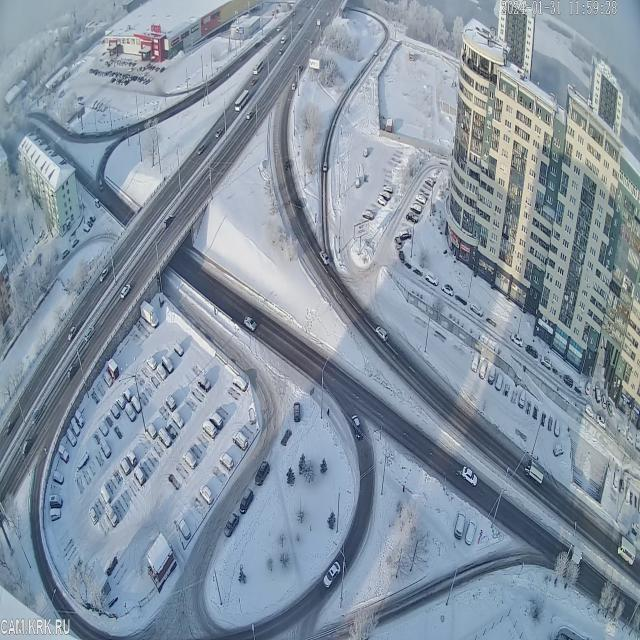car: (617, 536, 636, 566), (140, 300, 159, 328), (323, 561, 341, 589), (526, 458, 544, 486), (254, 460, 270, 486), (224, 512, 239, 537), (462, 466, 478, 488), (240, 488, 253, 515), (351, 415, 364, 441), (232, 431, 248, 452), (200, 482, 214, 506), (465, 518, 477, 546), (158, 426, 172, 449), (455, 508, 465, 540), (105, 503, 118, 527), (177, 518, 191, 540), (219, 451, 234, 471), (107, 358, 120, 381), (209, 409, 223, 430), (183, 449, 197, 470), (203, 419, 217, 439), (198, 372, 211, 393), (470, 299, 483, 319), (233, 374, 247, 392), (100, 438, 112, 459), (375, 324, 388, 343), (425, 269, 438, 288), (172, 409, 184, 429), (146, 420, 158, 440), (66, 363, 79, 381), (470, 349, 480, 372), (134, 467, 146, 486), (404, 210, 418, 226), (510, 331, 523, 348), (58, 444, 69, 464), (127, 448, 138, 468), (131, 394, 142, 414), (162, 356, 174, 374), (479, 355, 488, 379), (526, 342, 538, 360), (442, 280, 454, 298), (66, 429, 77, 448), (100, 485, 111, 504), (125, 403, 136, 422), (244, 316, 257, 332), (70, 417, 80, 437), (88, 505, 98, 525), (166, 394, 177, 412), (398, 227, 412, 241), (50, 494, 63, 509), (74, 409, 84, 428), (120, 457, 130, 476), (22, 438, 32, 457), (163, 212, 174, 229), (540, 353, 551, 370), (157, 363, 167, 381), (173, 342, 184, 358), (488, 363, 496, 385), (518, 388, 526, 410), (552, 416, 560, 438), (411, 200, 422, 216), (98, 420, 108, 437), (110, 402, 120, 419), (147, 354, 157, 371), (84, 326, 94, 343), (596, 413, 606, 430), (293, 402, 301, 423), (414, 192, 426, 206), (53, 470, 64, 485), (120, 284, 131, 299), (123, 386, 132, 404), (606, 395, 613, 418), (116, 394, 126, 410), (553, 442, 563, 458), (362, 208, 374, 221), (50, 508, 61, 522), (379, 188, 390, 202), (320, 249, 329, 266), (496, 371, 503, 392), (600, 389, 607, 410), (585, 402, 593, 420), (382, 183, 393, 196), (564, 372, 572, 389), (618, 421, 626, 438), (68, 326, 77, 341), (613, 462, 618, 489), (594, 384, 601, 403), (377, 195, 387, 208), (100, 266, 108, 282), (626, 430, 634, 446), (424, 177, 434, 189), (395, 234, 402, 251), (626, 478, 630, 506), (585, 380, 592, 395), (619, 475, 624, 496), (197, 143, 205, 156), (62, 248, 70, 260), (215, 127, 222, 139), (354, 176, 360, 190), (71, 238, 79, 248), (362, 147, 368, 159), (247, 110, 254, 120), (83, 224, 90, 233), (95, 198, 100, 209), (99, 180, 104, 191), (88, 219, 93, 229), (90, 213, 95, 223)
